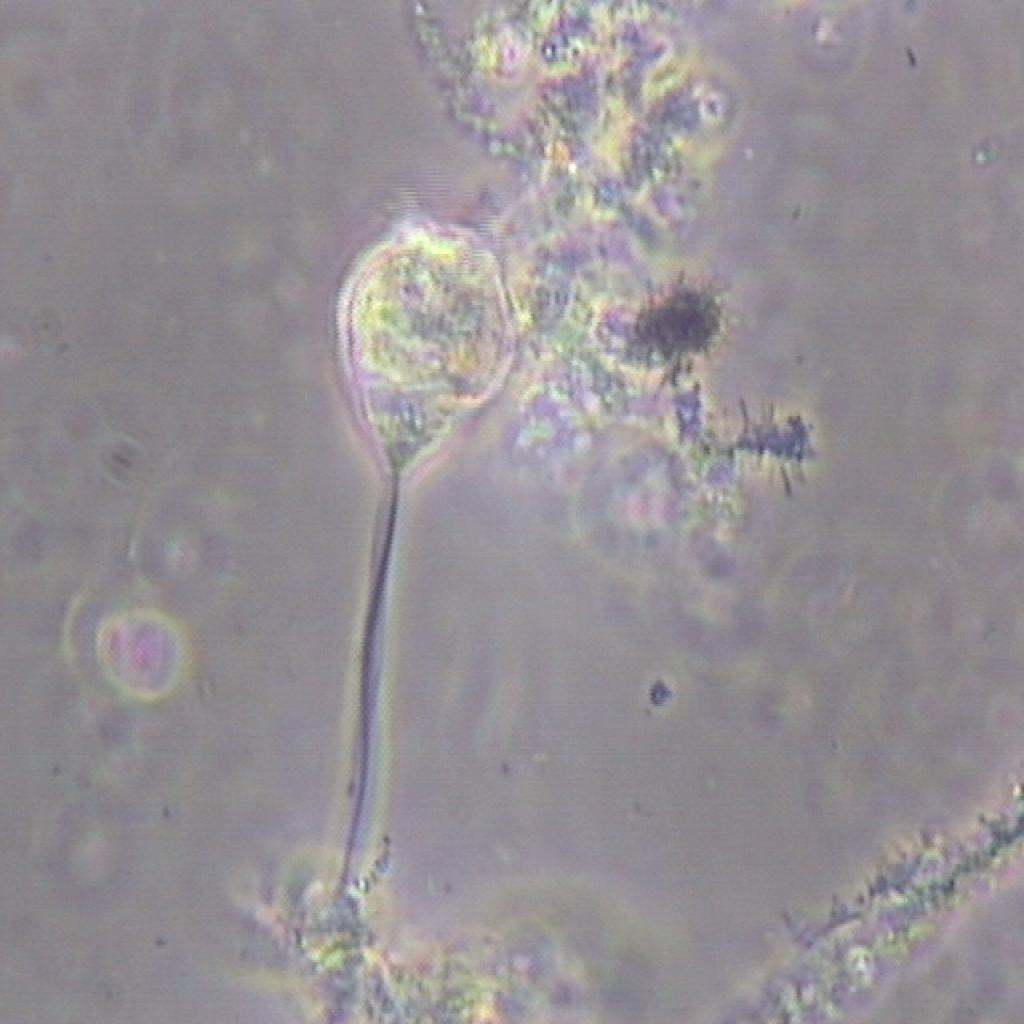Vorticella: (251, 176, 512, 903)
